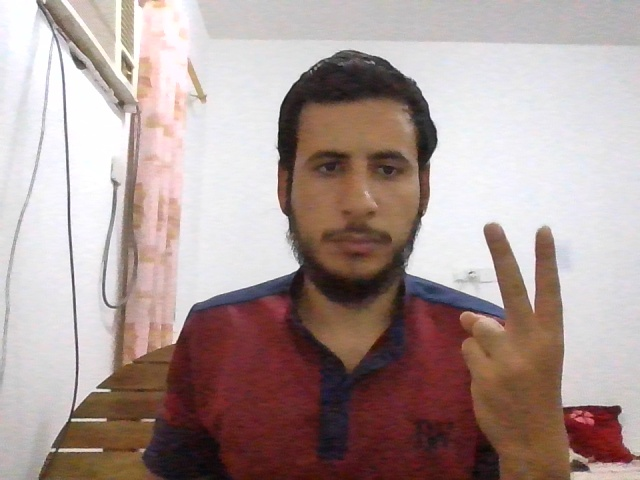Two: (460, 223, 569, 467)
